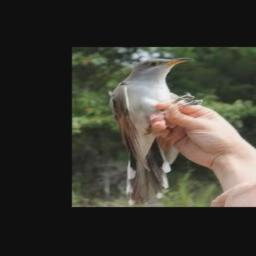Cuckoo: (109, 58, 200, 205)
